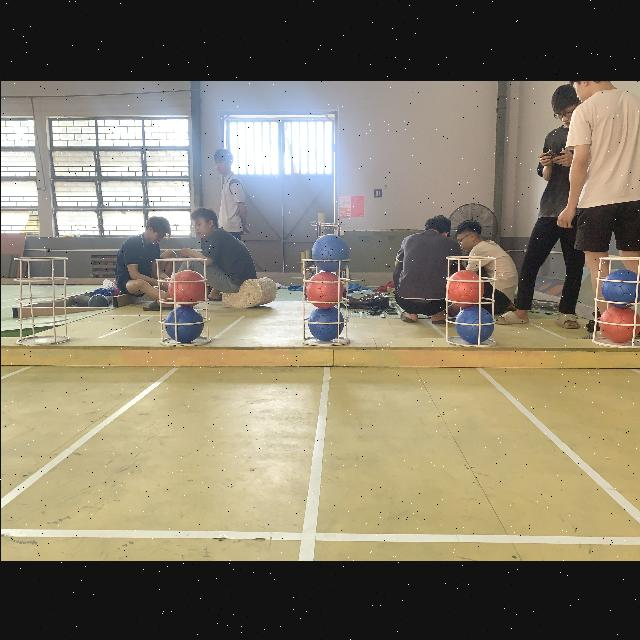B: (453, 304, 492, 344), (600, 268, 640, 306), (310, 233, 350, 271), (164, 304, 202, 342), (306, 306, 342, 340)
R: (596, 306, 640, 342), (445, 268, 483, 304), (304, 270, 342, 306), (167, 270, 205, 304)
